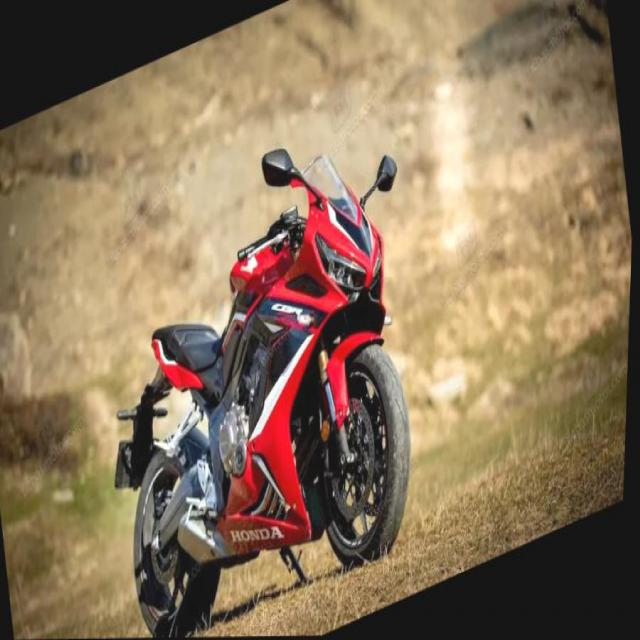CBR650R: (91, 134, 435, 638)
